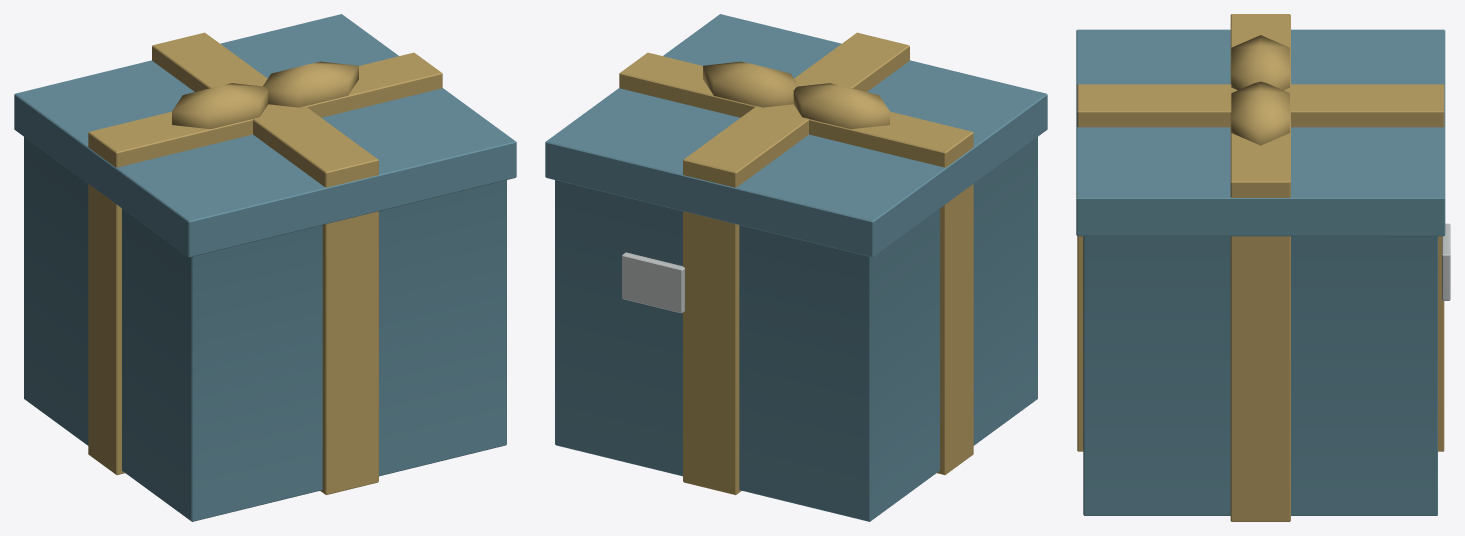
File: gift_box_blue_low.glb
3 renders of one model, left to right at view 1: azimuth 30°, elevation 25°; view 2: azimuth 150°, elevation 25°; view 3: azimuth 270°, elevation 25°, orthographic. The views are drawn at different scales.
Size of the model in its own units: 0.5408 by 0.552 by 0.5066.
